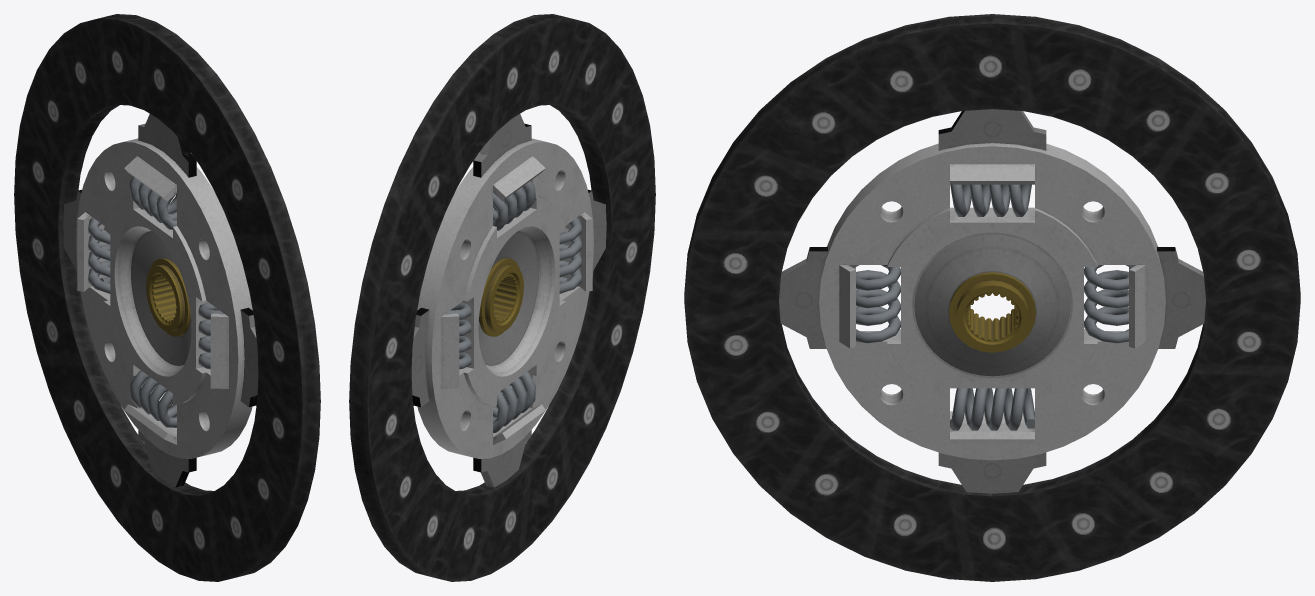
The model's file is fwdClutch.glb.
The picture shows the model from 3 angles, left to right: view 1: azimuth 30°, elevation 25°; view 2: azimuth 150°, elevation 25°; view 3: azimuth 270°, elevation 25°; orthographic projection. The views are drawn at different scales.
Visible parts, largest first — view 1: tarcza_sprzegla(0); view 2: tarcza_sprzegla(0); view 3: tarcza_sprzegla(0).
Part boxes in pixels (<box>): tarcza_sprzegla(0): <box>14,14,320,581</box>; tarcza_sprzegla(0): <box>349,14,655,581</box>; tarcza_sprzegla(0): <box>684,14,1300,581</box>.
Size of the model in its own units: 0.000438 by 0.00348 by 0.00348.
Materials: 1 (1 with a texture image).
